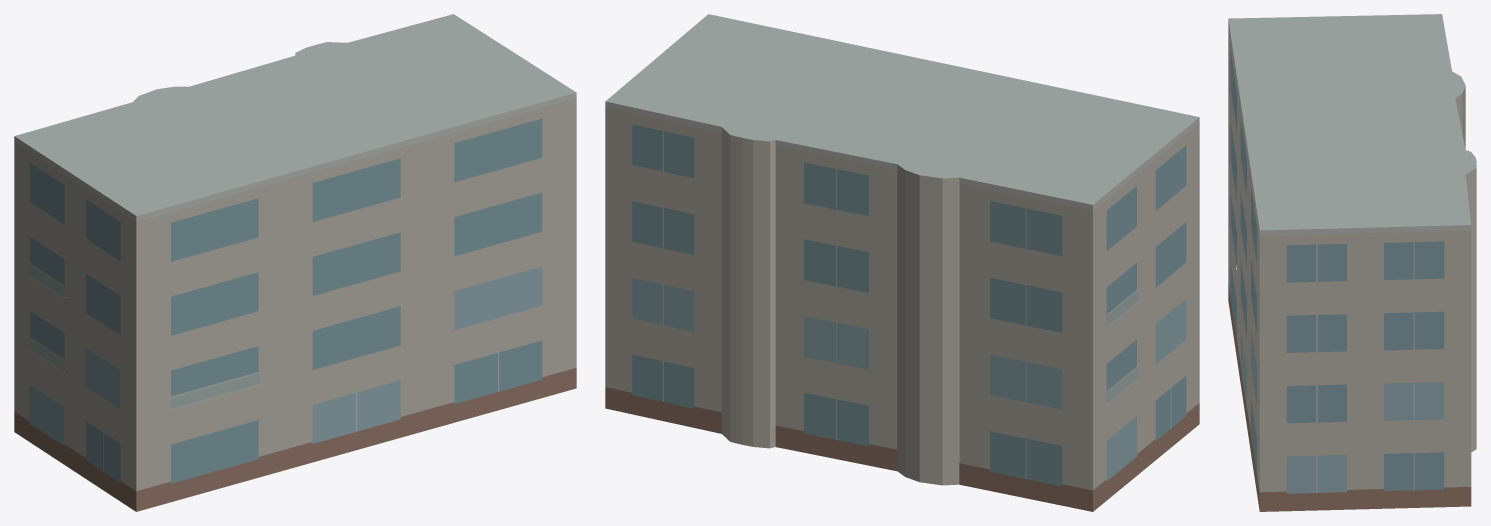
File: survey-upis-32743004.glb
The picture shows the model from 3 angles, left to right: view 1: azimuth 30°, elevation 25°; view 2: azimuth 150°, elevation 25°; view 3: azimuth 270°, elevation 25°; orthographic projection. The views are drawn at different scales.
Parts seen in each view (by area): view 1: survey-upis-32743004.tmp; view 2: survey-upis-32743004.tmp; view 3: survey-upis-32743004.tmp.
Boxes of the visible parts, bbox=[...] form: survey-upis-32743004.tmp: bbox=[14, 14, 576, 511]; survey-upis-32743004.tmp: bbox=[605, 14, 1199, 511]; survey-upis-32743004.tmp: bbox=[1228, 14, 1476, 511].
Size of the model in its own units: 21.13 by 12.8 by 10.25.
